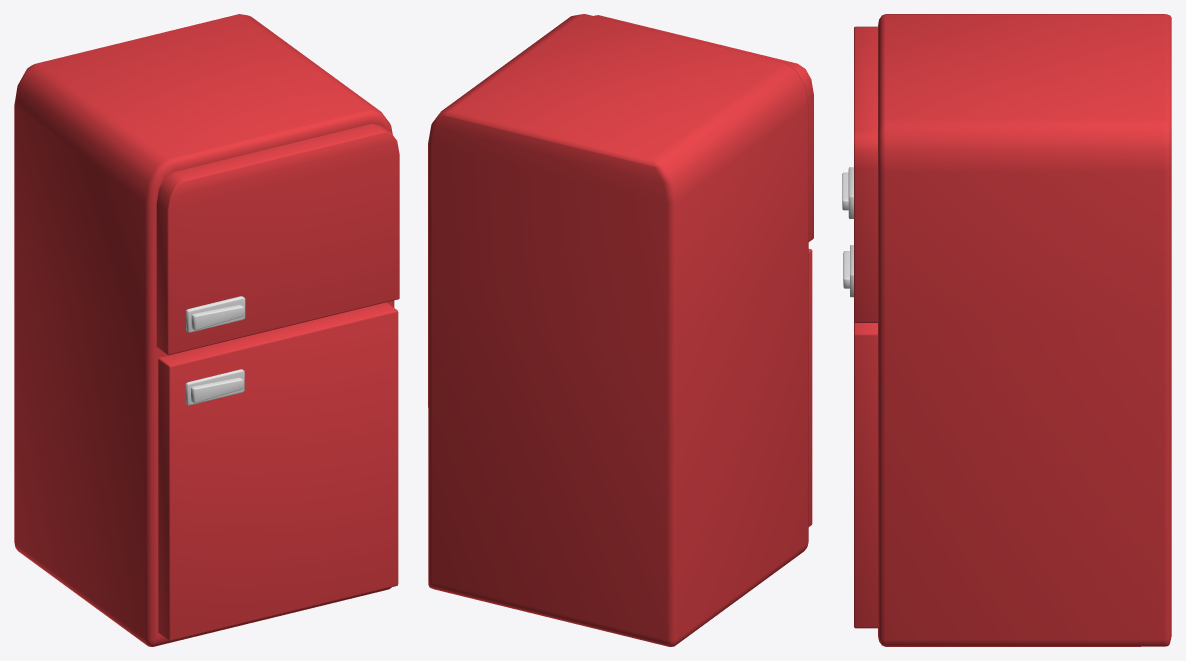
Rendered from fridge.fbx.
The picture shows the model from 3 angles, left to right: view 1: azimuth 30°, elevation 25°; view 2: azimuth 150°, elevation 25°; view 3: azimuth 270°, elevation 25°; orthographic projection. The views are drawn at different scales.
Parts seen in each view (by area): view 1: Fridge; view 2: Fridge; view 3: Fridge.
Part boxes in pixels (<box>): Fridge: <box>14,14,399,646</box>; Fridge: <box>428,14,813,646</box>; Fridge: <box>842,14,1171,646</box>.
Bounding box in the file's own units: 122 × 227 × 131.
